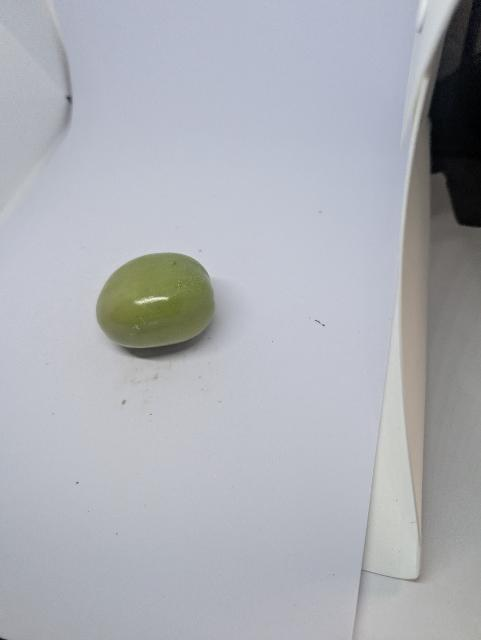green: (93, 249, 218, 350)
